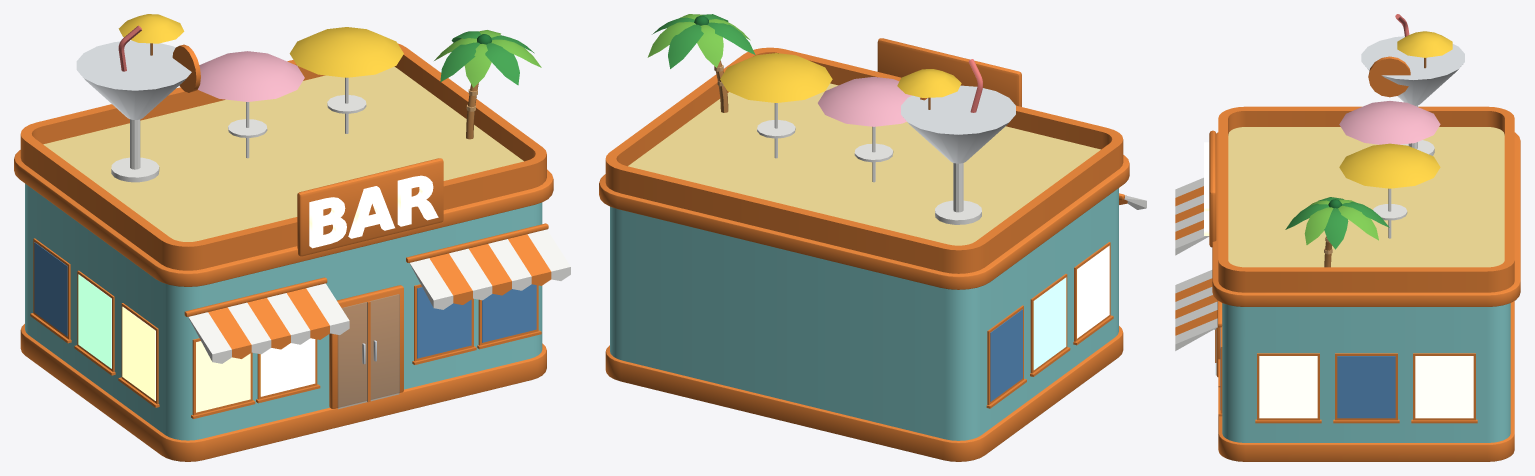
Rendered from bar_praia_turquesa.glb.
3 views of the same model, side by side, from view 1: azimuth 30°, elevation 25°; view 2: azimuth 150°, elevation 25°; view 3: azimuth 270°, elevation 25° (orthographic). The views are drawn at different scales.
Parts seen in each view (by area): view 1: bar_praia_turquesa; view 2: bar_praia_turquesa; view 3: bar_praia_turquesa.
Boxes of the visible parts, <box> form: bar_praia_turquesa: <box>14,14,570,461</box>; bar_praia_turquesa: <box>599,14,1146,461</box>; bar_praia_turquesa: <box>1175,14,1520,461</box>.
Bounding box in the file's own units: 11.29 × 8.8 × 8.85.
7 materials, 1 textured.
